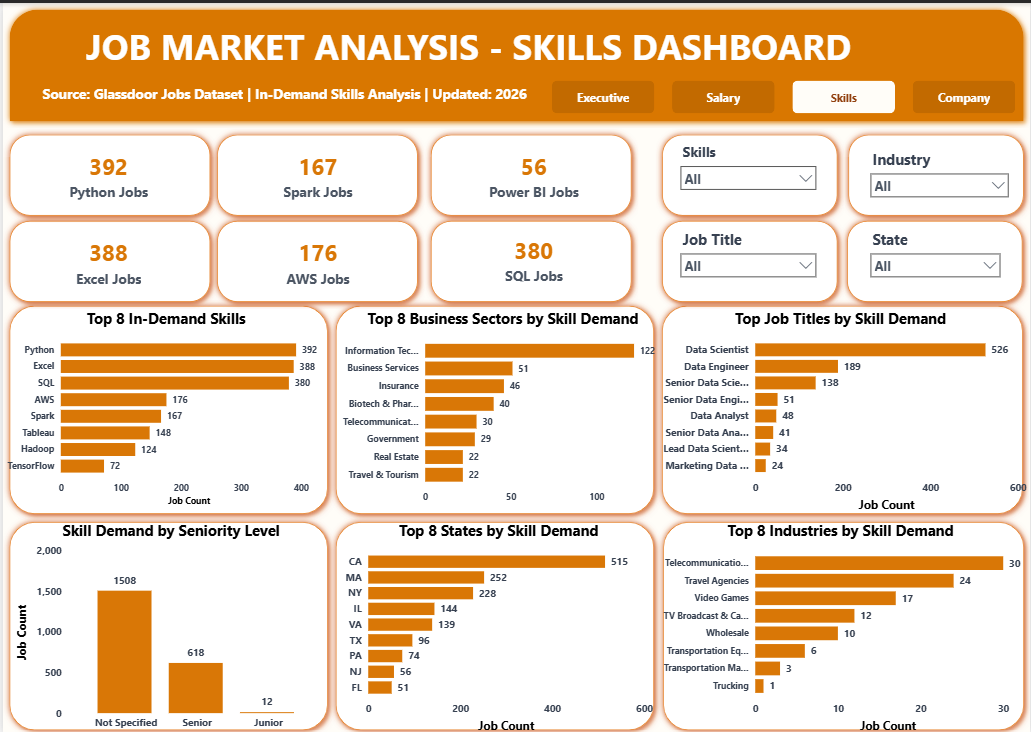

Layout of this report page (visuals, bound fields, positions):
{"tool":"powerbi","page":{"name":"Skills","canvas":[1400,1000],"ordinal":2},"visuals":[{"type":"shape","box":[889.6,403.9,509.5,301.6],"z":0},{"type":"shape","box":[891.3,698.4,509.5,301.6],"z":1000},{"type":"shape","box":[444.8,698.4,451.6,301.6],"z":2000},{"type":"shape","box":[444.8,403.9,451.6,301.6],"z":3000},{"type":"shape","box":[0,698.4,451.6,301.6],"z":4000},{"type":"shape","box":[0,403.9,451.6,301.6],"z":5000},{"type":"shape","box":[889,170.9,257.1,128.6],"z":6000},{"type":"shape","box":[1143,170.9,257.1,128.6],"z":7000},{"type":"shape","box":[889,288.5,257.1,128.6],"z":8000},{"type":"shape","box":[1141.4,288.5,257.1,128.6],"z":9000},{"type":"shape","box":[573.8,170.9,291.6,128.6],"z":10000},{"type":"shape","box":[0,288.5,291.6,128.6],"z":11000},{"type":"shape","box":[282.2,288.5,291.6,128.6],"z":12000},{"type":"shape","box":[573.8,288.5,291.6,128.6],"z":13000},{"type":"shape","box":[282.2,170.9,291.6,128.6],"z":14000},{"type":"shape","box":[0,170.9,291.6,128.6],"z":15000},{"type":"shape","box":[0,0,1400.3,170.2],"z":16000},{"type":"textbox","box":[30.7,20.5,1208.3,85.2],"z":17000},{"type":"cardVisual","fields":{"Data":["Measures (2).SQL Jobs"]},"box":[603.6,299.5,241.4,100.3],"z":18000},{"type":"cardVisual","fields":{"Data":["Measures (2).Power BI Jobs"]},"box":[603.6,185,241.4,100.3],"z":19000},{"type":"cardVisual","fields":{"Data":["Measures (2).Excel Jobs"]},"box":[29.8,302.6,230.5,100.3],"z":20000},{"type":"cardVisual","fields":{"Data":["Measures (2).Python Jobs"]},"box":[29.8,181.9,230.5,106.6],"z":21000},{"type":"cardVisual","fields":{"Data":["Measures (2).AWS Jobs"]},"box":[312,302.6,235.2,100.3],"z":22000},{"type":"cardVisual","fields":{"Data":["Measures (2).Spark Jobs"]},"box":[312,181.9,235.2,106.6],"z":23000},{"type":"slicer","fields":{"Values":["Job_Market_Analysis.Skills"]},"box":[914,185,205.4,100.3],"z":24000},{"type":"slicer","fields":{"Values":["Job_Market_Analysis.State"]},"box":[1172.7,302.6,197.5,100.3],"z":25000},{"type":"slicer","fields":{"Values":["Job_Market_Analysis.Industry"]},"box":[1172.7,194.4,208.5,90.9],"z":26000},{"type":"slicer","fields":{"Values":["Job_Market_Analysis.Job Title"]},"box":[914,302.6,205.4,97.2],"z":27000},{"type":"clusteredBarChart","title":"Top 8 Business Sectors by Skill Demand","fields":{"Category":["Job_Market_Analysis.Business Sector"],"Y":["Measures (2).Total Jobs"]},"box":[444.8,415.8,473.8,276.1],"z":28000},{"type":"clusteredBarChart","title":"Top 8 Industries by Skill Demand","fields":{"Category":["Job_Market_Analysis.Industry"],"Y":["CountNonNull(Job_Market_Analysis.Skills)"]},"box":[882.8,705.5,518.1,294.8],"z":29000},{"type":"clusteredBarChart","title":"Top 8 States by Skill Demand","fields":{"Category":["Job_Market_Analysis.State"],"Y":["CountNonNull(Job_Market_Analysis.Skills)"]},"box":[460.1,705.5,431.2,294.8],"z":30000},{"type":"clusteredBarChart","title":"Top Job Titles by Skill Demand","fields":{"Category":["Job_Market_Analysis.Job Title"],"Y":["CountNonNull(Job_Market_Analysis.Skills)"]},"box":[882.8,415.8,518.1,282.9],"z":31000},{"type":"clusteredColumnChart","title":"Skill Demand by Seniority Level","fields":{"Category":["Job_Market_Analysis.Seniority Level"],"Y":["CountNonNull(Job_Market_Analysis.Skills)"]},"box":[13.6,705.5,431.2,294.8],"z":32000},{"type":"clusteredBarChart","title":"Top 8 In-Demand Skills","fields":{"Category":["Job_Market_Analysis.Skills"],"Y":["CountNonNull(Job_Market_Analysis.Skills)"]},"box":[0,415.8,444.8,276.1],"z":33000},{"type":"pageNavigator","box":[748.8,105.3,632.1,45.4],"z":34000},{"type":"textbox","box":[30.3,105.3,706.5,44.7],"z":35000}]}

Visuals, with their boxes in screenshot pixels (x1, y1, x2, y2), scaled from the page's 1400x1000 canvas onto the 1031x732 screenshot:
shape: [655, 296, 1030, 516]
shape: [656, 511, 1030, 731]
shape: [328, 511, 660, 731]
shape: [328, 296, 660, 516]
shape: [0, 511, 333, 731]
shape: [0, 296, 333, 516]
shape: [655, 125, 844, 219]
shape: [842, 125, 1030, 219]
shape: [655, 211, 844, 305]
shape: [841, 211, 1030, 305]
shape: [423, 125, 637, 219]
shape: [0, 211, 215, 305]
shape: [208, 211, 423, 305]
shape: [423, 211, 637, 305]
shape: [208, 125, 423, 219]
shape: [0, 125, 215, 219]
shape: [0, 0, 1030, 125]
textbox: [23, 15, 912, 77]
cardVisual - Measures (2).SQL Jobs: [445, 219, 622, 293]
cardVisual - Measures (2).Power BI Jobs: [445, 135, 622, 209]
cardVisual - Measures (2).Excel Jobs: [22, 222, 192, 295]
cardVisual - Measures (2).Python Jobs: [22, 133, 192, 211]
cardVisual - Measures (2).AWS Jobs: [230, 222, 403, 295]
cardVisual - Measures (2).Spark Jobs: [230, 133, 403, 211]
slicer - Job_Market_Analysis.Skills: [673, 135, 824, 209]
slicer - Job_Market_Analysis.State: [864, 222, 1009, 295]
slicer - Job_Market_Analysis.Industry: [864, 142, 1017, 209]
slicer - Job_Market_Analysis.Job Title: [673, 222, 824, 293]
"Top 8 Business Sectors by Skill Demand" clusteredBarChart: [328, 304, 676, 506]
"Top 8 Industries by Skill Demand" clusteredBarChart: [650, 516, 1030, 731]
"Top 8 States by Skill Demand" clusteredBarChart: [339, 516, 656, 731]
"Top Job Titles by Skill Demand" clusteredBarChart: [650, 304, 1030, 511]
"Skill Demand by Seniority Level" clusteredColumnChart: [10, 516, 328, 731]
"Top 8 In-Demand Skills" clusteredBarChart: [0, 304, 328, 506]
pageNavigator: [551, 77, 1017, 110]
textbox: [22, 77, 543, 110]
